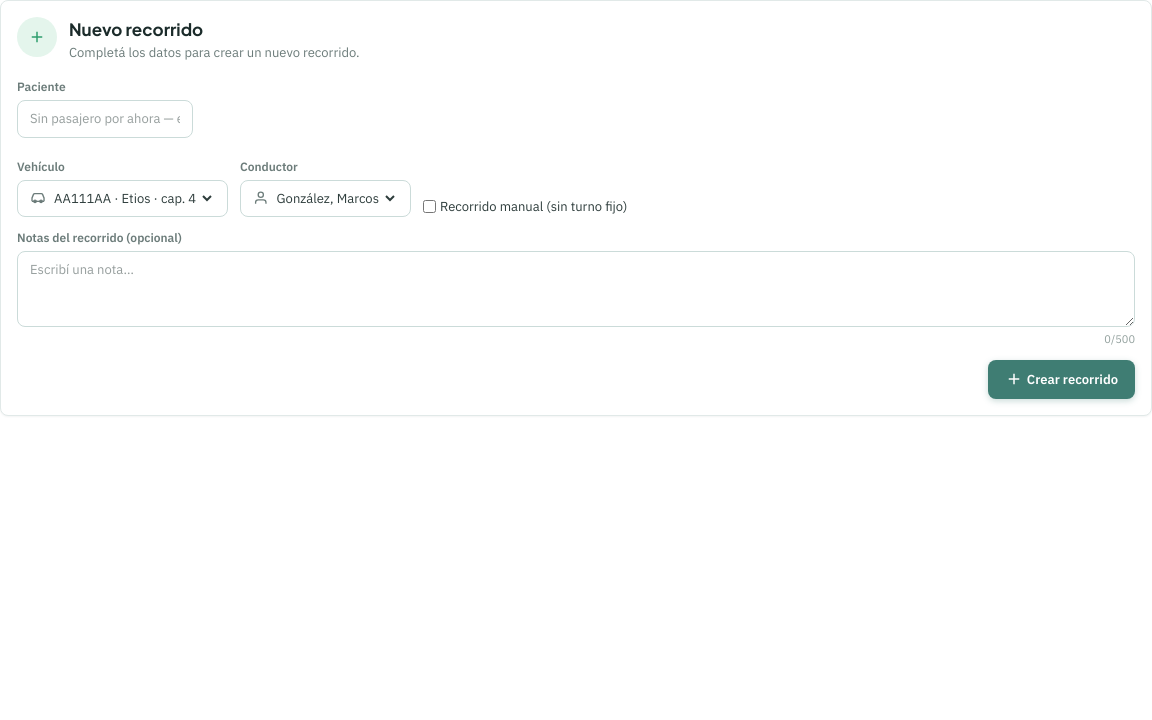
Test: NuevoRecorridoForm — sugerencia de recorrido existente › con un recorrido compatible dentro de la ventana horaria, muestra la sugerencia con vehículo y ocupación
Click the dropdown labelled "Paciente": (105, 119) [17,100,193,138]
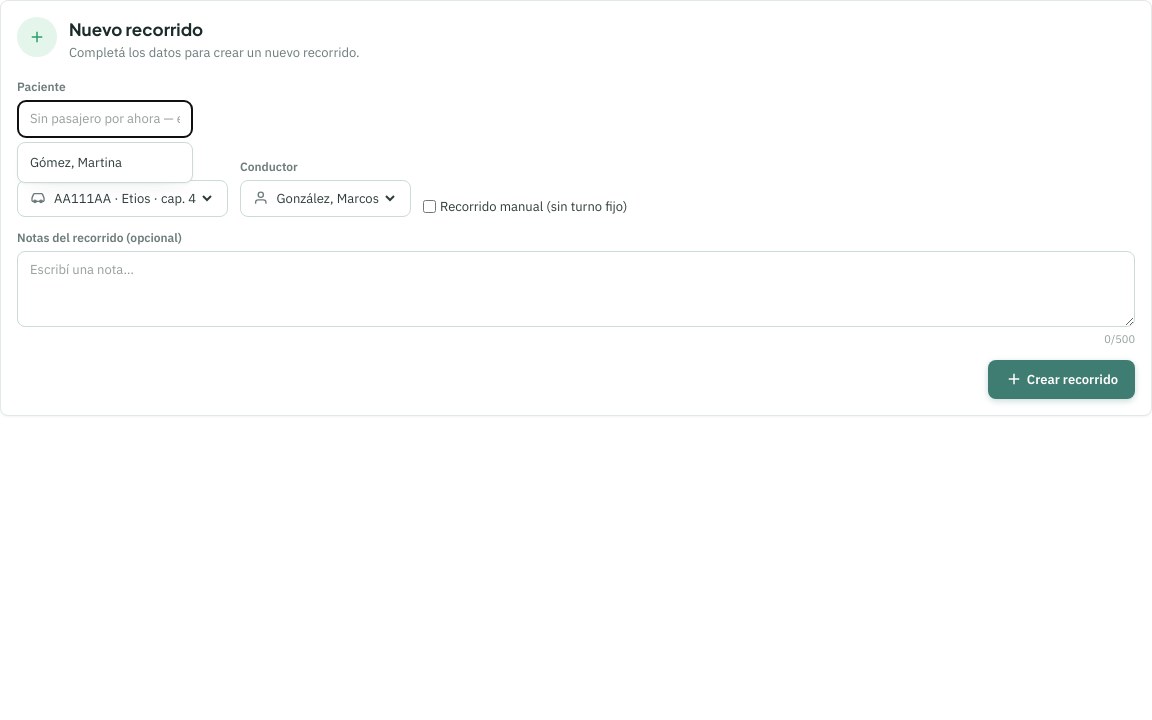
Click the option "Gómez, Martina": (76, 162) [30,154,122,170]
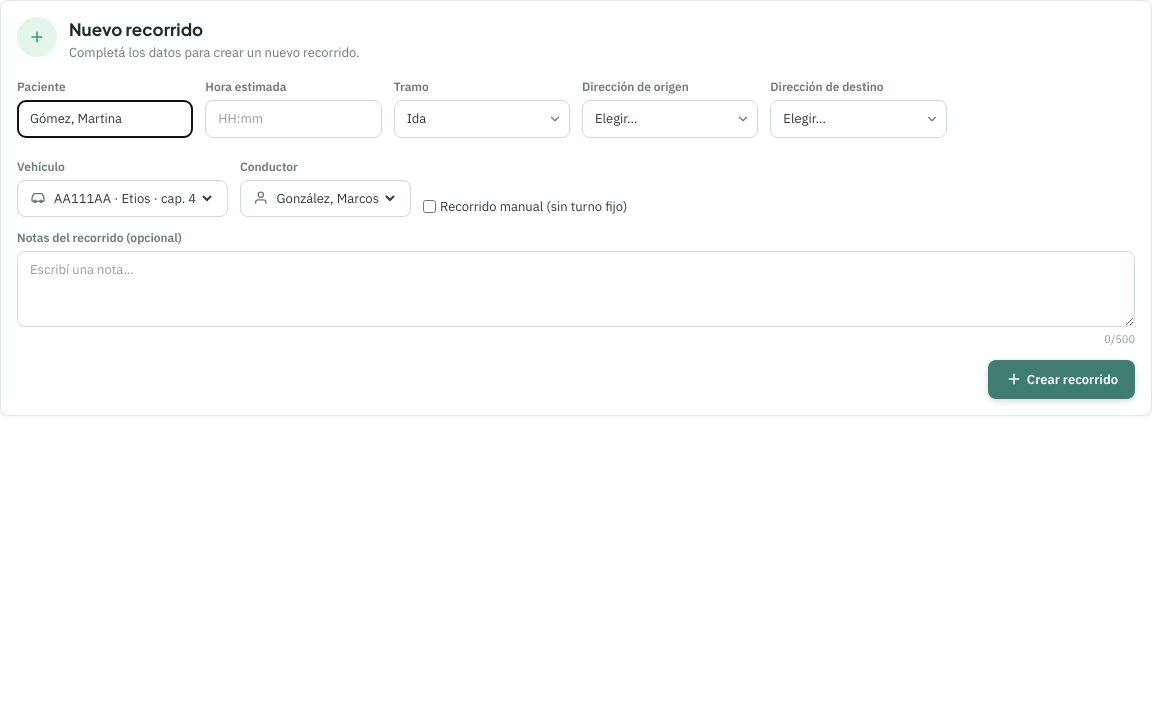
In the dropdown labelled "Hora estimada": (293, 119) [205,100,382,138], type "09:10"
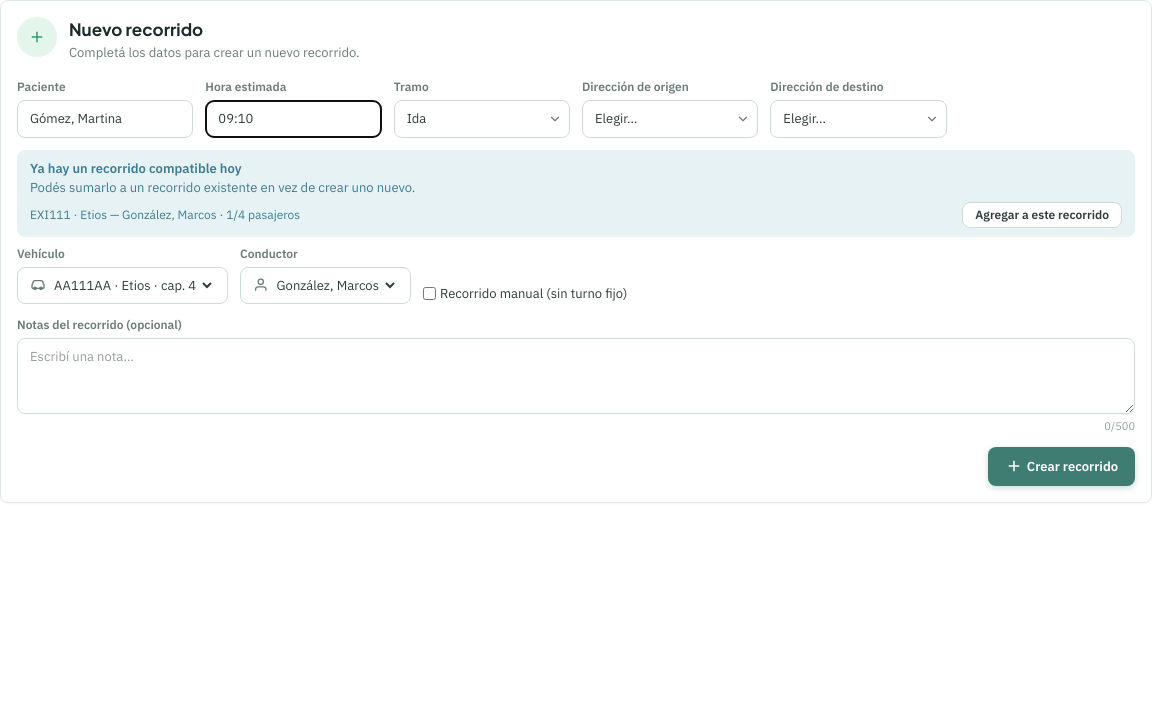
Expected: the text "EXI111 · Etios — González, Marcos · 1/4 pasajeros" is shown, [30,206,300,224]
Expected: the button "Agregar a este recorrido" is shown, [962,202,1122,228]
